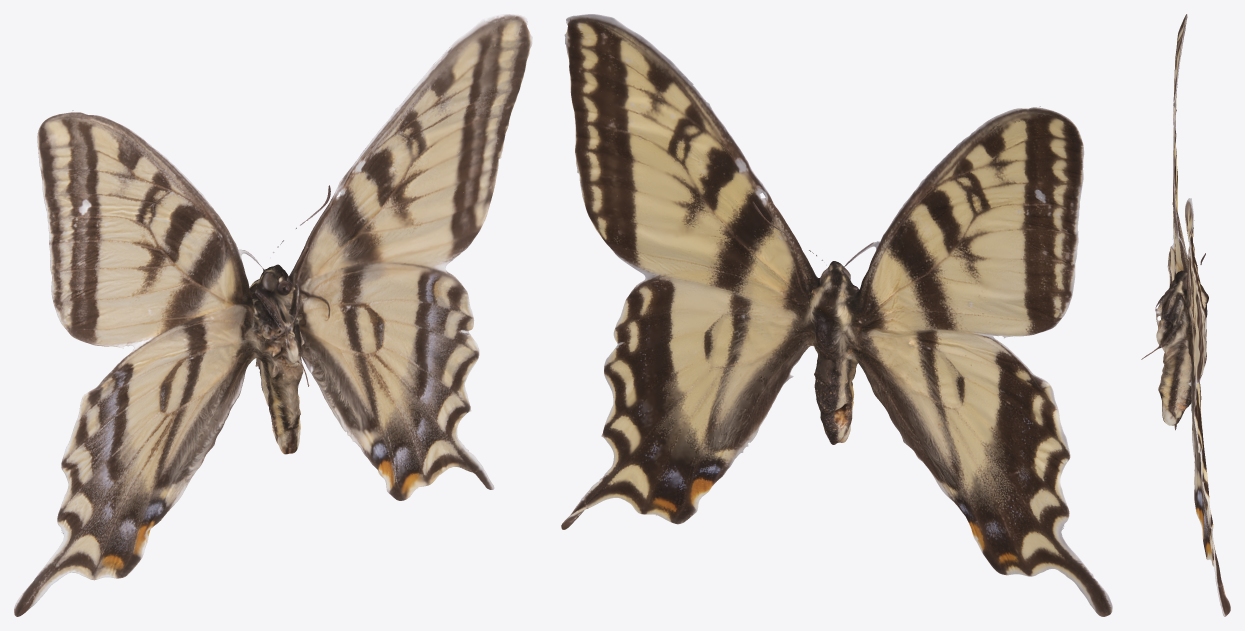
The model's file is tiger_swallowtail2.glb.
The picture shows the model from 3 angles, left to right: view 1: azimuth 30°, elevation 25°; view 2: azimuth 150°, elevation 25°; view 3: azimuth 270°, elevation 25°; orthographic projection. The views are drawn at different scales.
Parts seen in each view (by area): view 1: Object_2, Object_3; view 2: Object_2, Object_3; view 3: Object_2, Object_3.
Part boxes in pixels (left/top/right/bottom): Object_2: left=15, top=14, right=532, bottom=616; Object_3: left=14, top=14, right=528, bottom=615; Object_2: left=561, top=18, right=1107, bottom=596; Object_3: left=561, top=14, right=1112, bottom=616; Object_2: left=1156, top=14, right=1226, bottom=615; Object_3: left=1141, top=14, right=1230, bottom=616.
Bounding box in the file's own units: 3.61 × 3.3 × 0.6435.
1 material, 1 textured.
